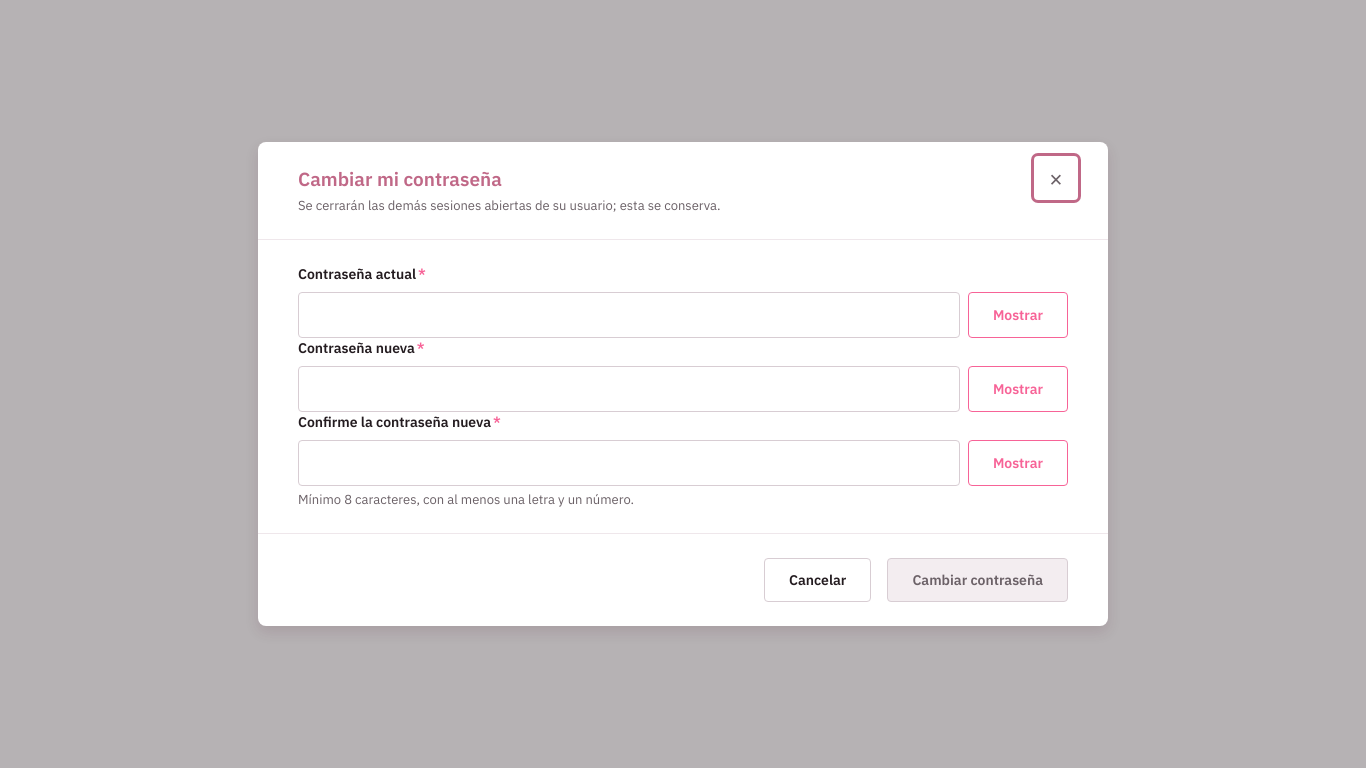
ModalCambiarPassword › el mensaje se quita al corregir la contraseña
Step 1. Type "incorrecta1" into the password field labelled "Contraseña actual*" → (629, 315), box [298,292,960,338]
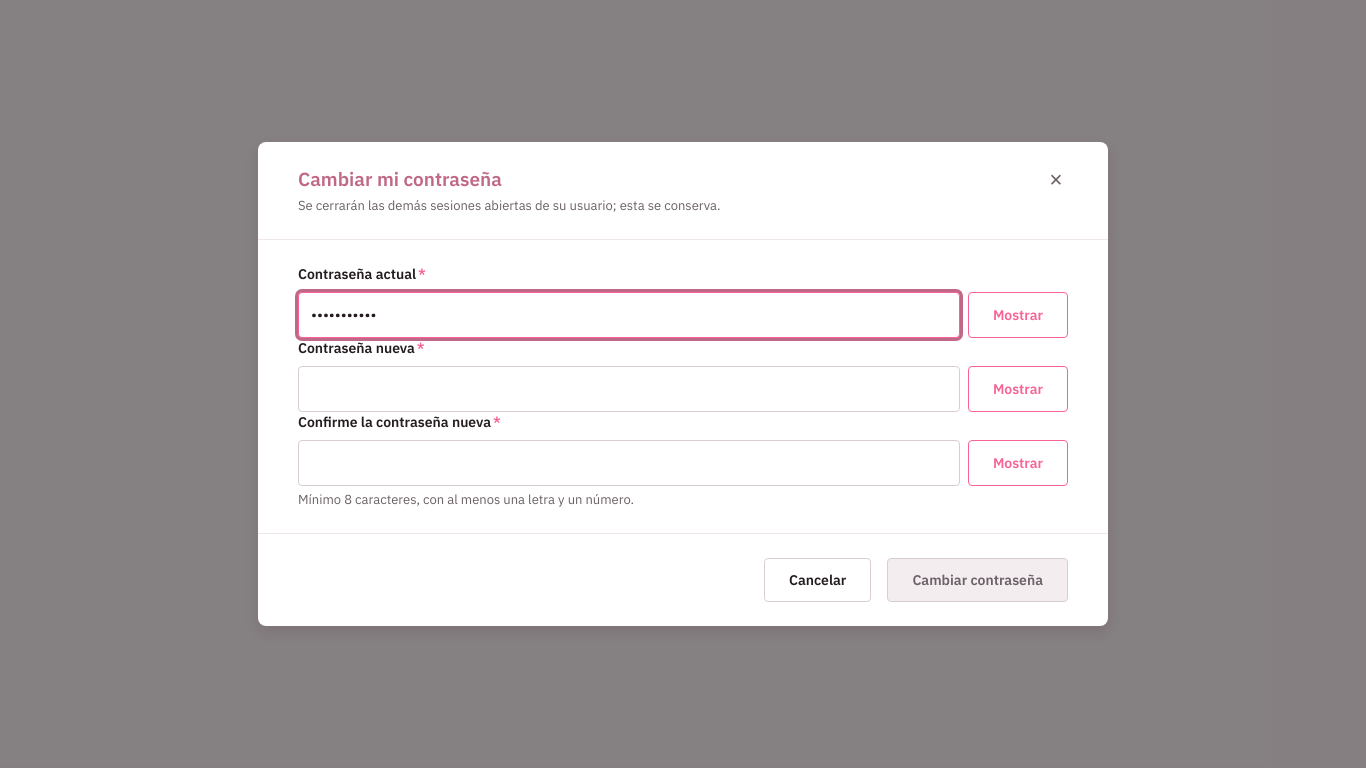
Step 2. Type "NuevaClave123" into the password field labelled "Contraseña nueva*" → (629, 389), box [298,366,960,412]
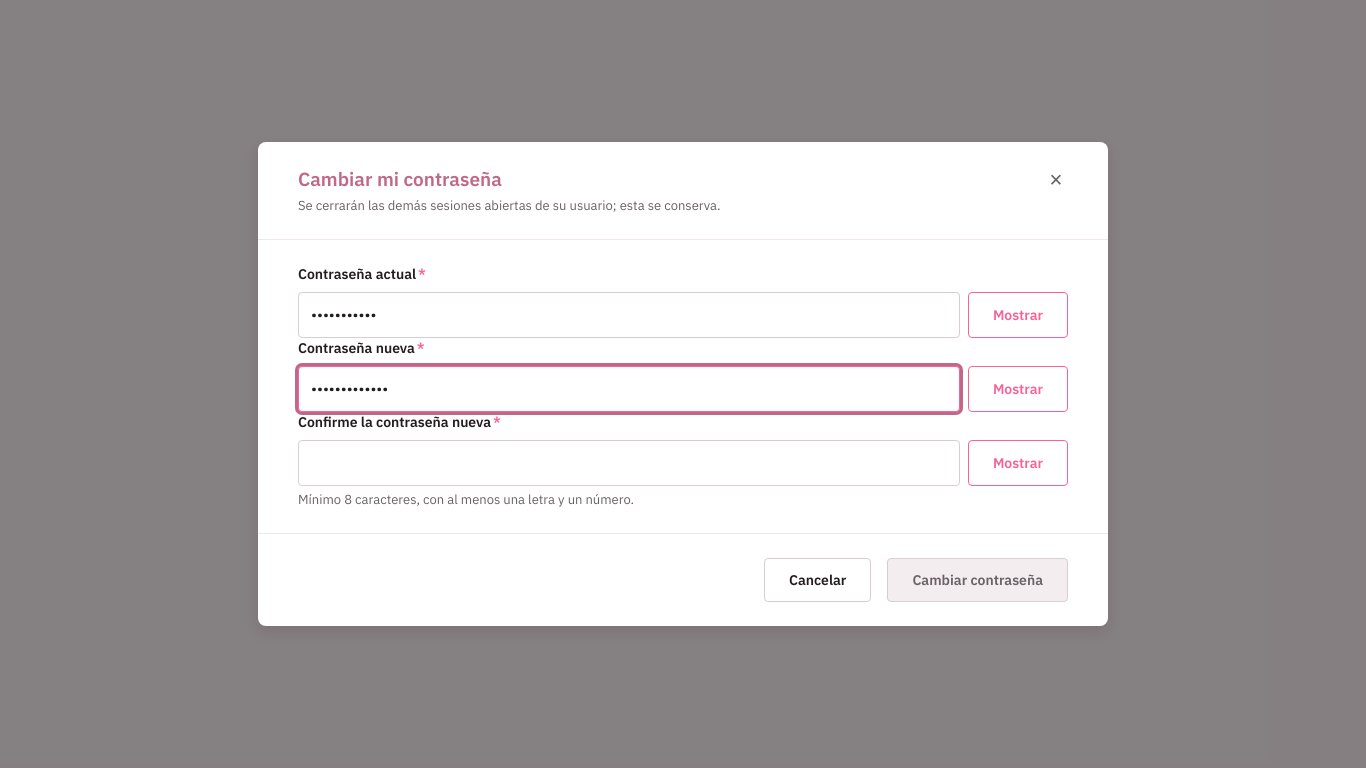
Step 3. Type "NuevaClave123" into the password field labelled "Confirme la contraseña nueva*" → (629, 463), box [298,440,960,486]
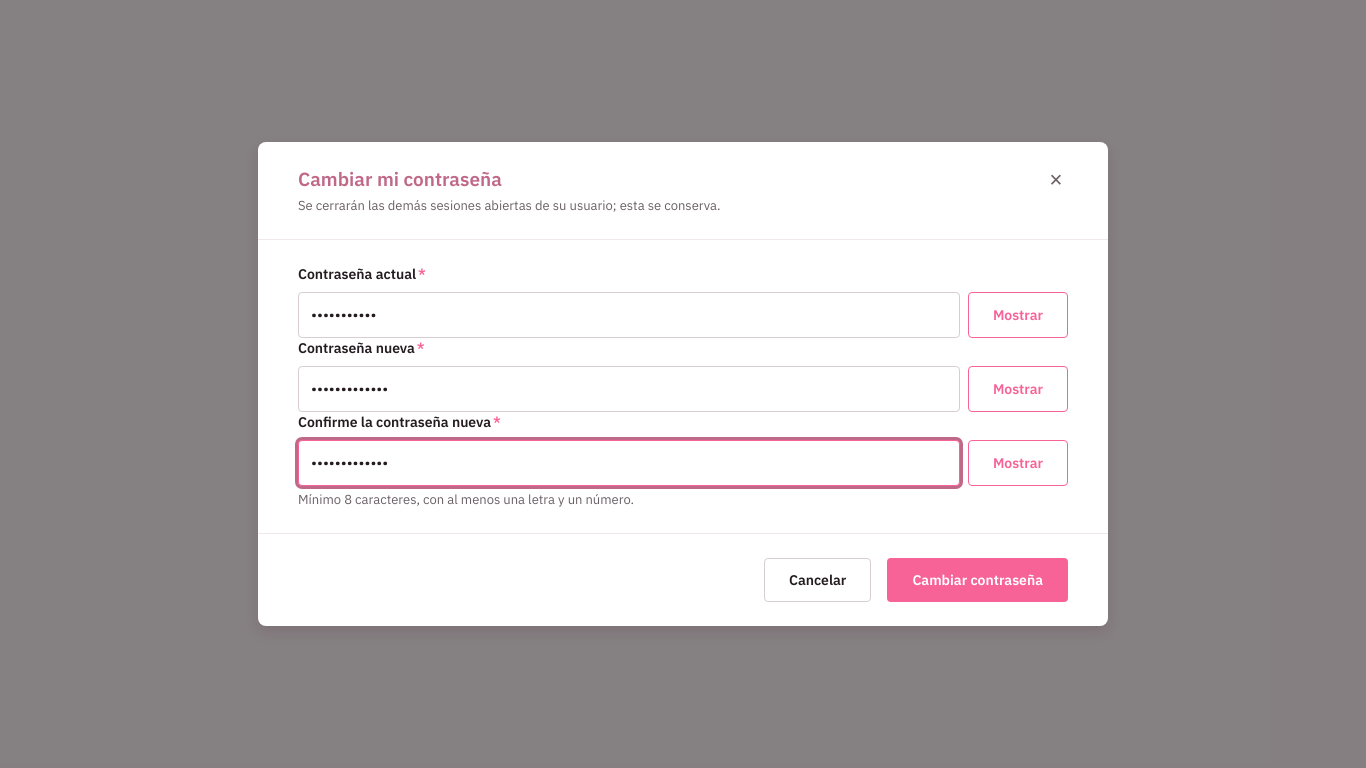
Step 4. Click the button "Cambiar contraseña" → (978, 580), box [887,558,1068,602]
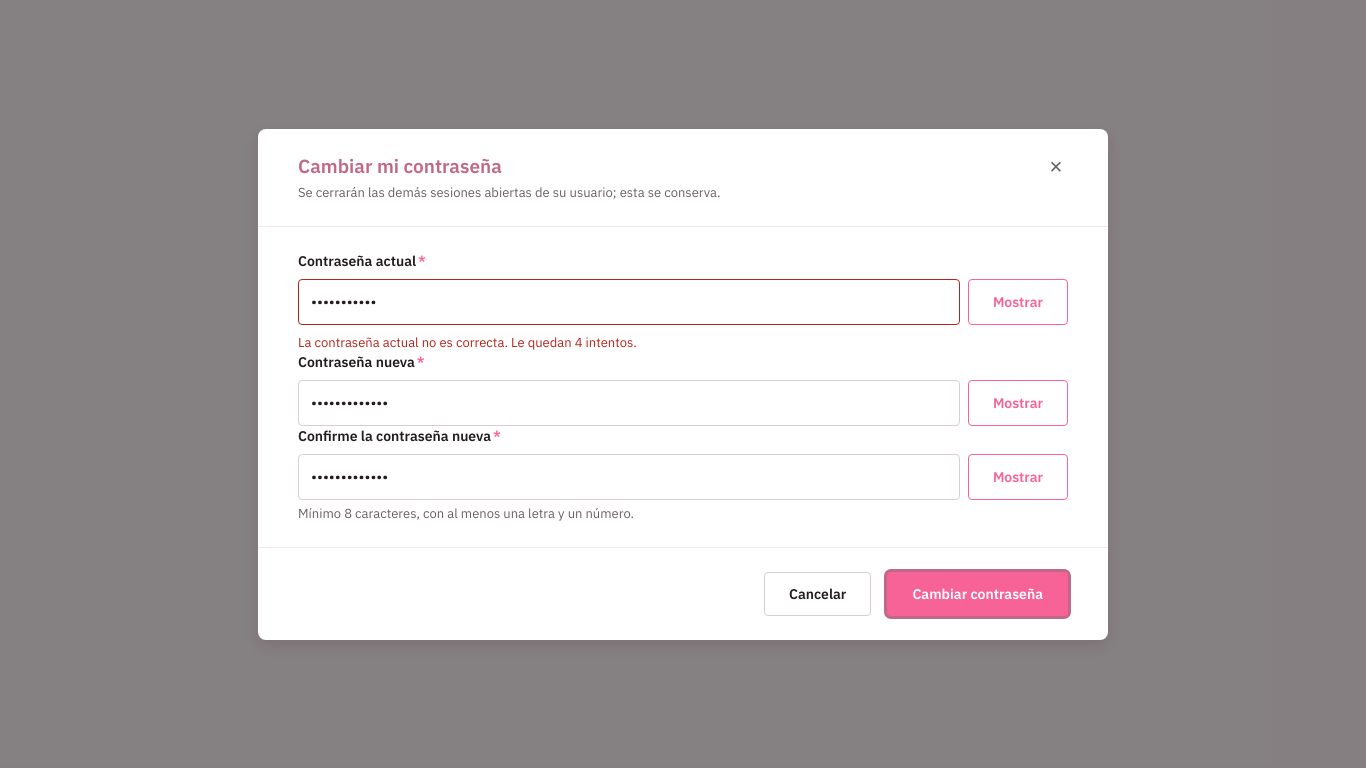
Check: the text "La contraseña actual no es correcta. Le quedan 4 intentos." is shown, box [298,334,637,350]
Step 5. Type "x" into the password field labelled "Contraseña actual*" → (629, 302), box [298,278,960,324]
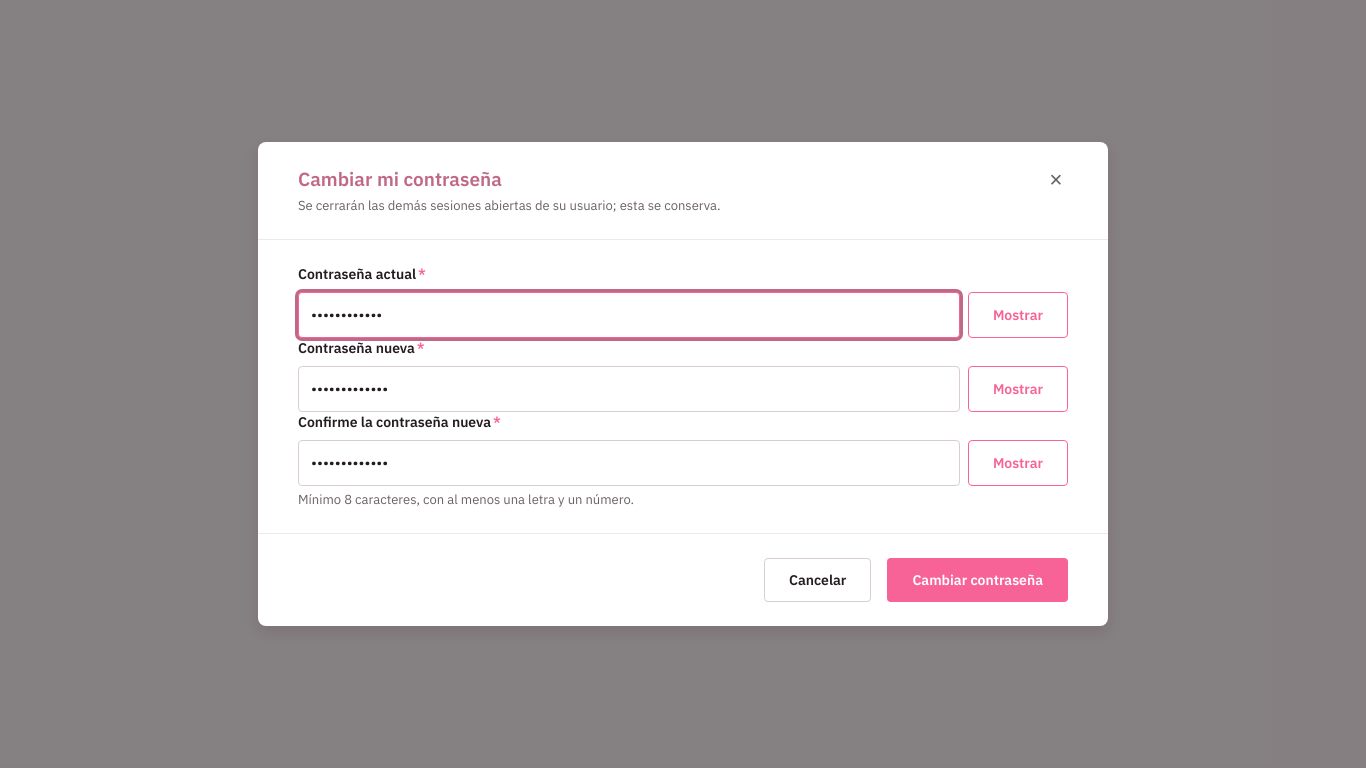
Check: the text "Le quedan 4 intentos" is gone
